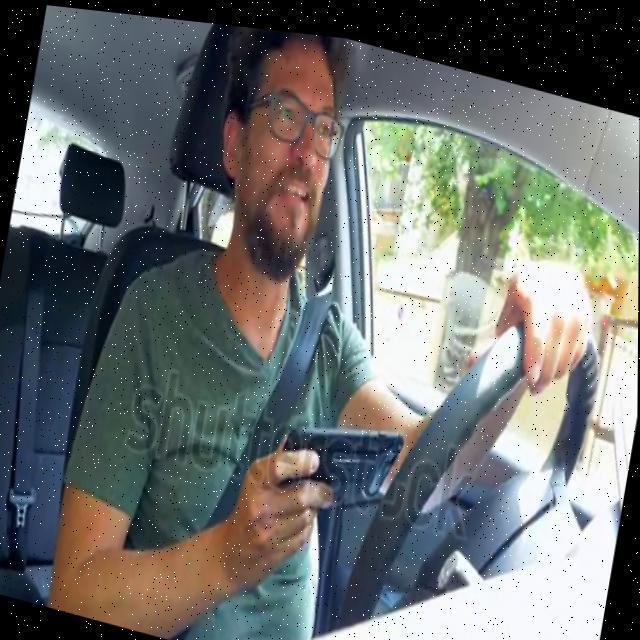PhoneCall: (269, 391, 407, 520)
